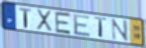E: (54, 11, 73, 36), (73, 13, 92, 37)
N: (111, 18, 130, 43)
T: (94, 16, 108, 40), (19, 7, 33, 30)
X: (36, 8, 54, 34)
